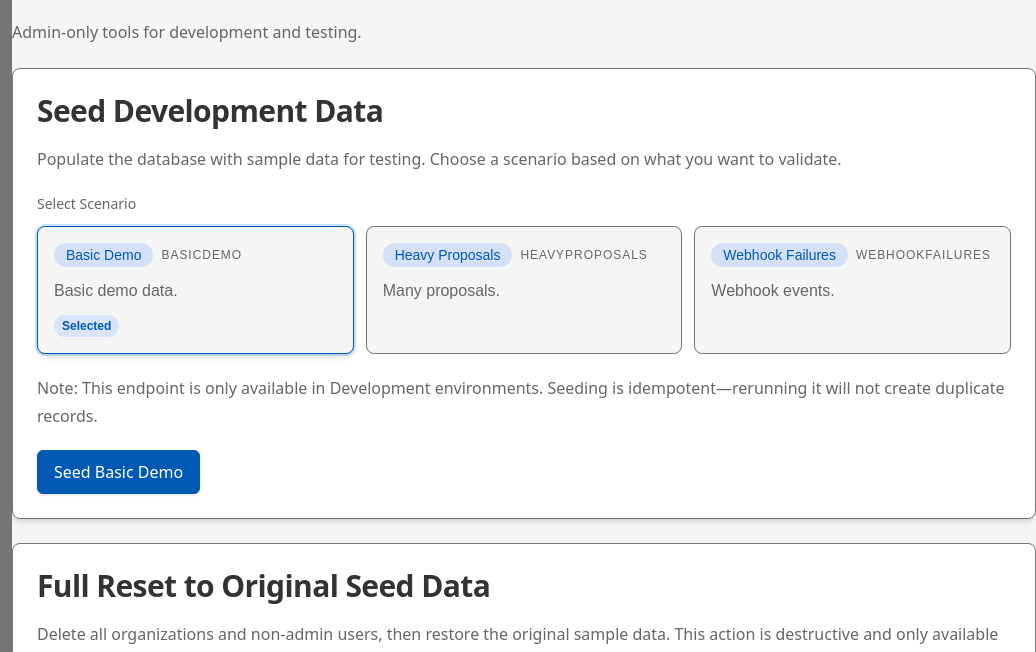
Test: AdminDevToolsPage › displays webhook data when WebhookFailures scenario creates them
Expected: the text "Select Scenario" is shown, [37,194,136,213]
# Select WebhookFailures scenario
Click the button "Webhook Failures WebhookFailures Webhook events." at point(780, 255), box [694,226,1011,354]
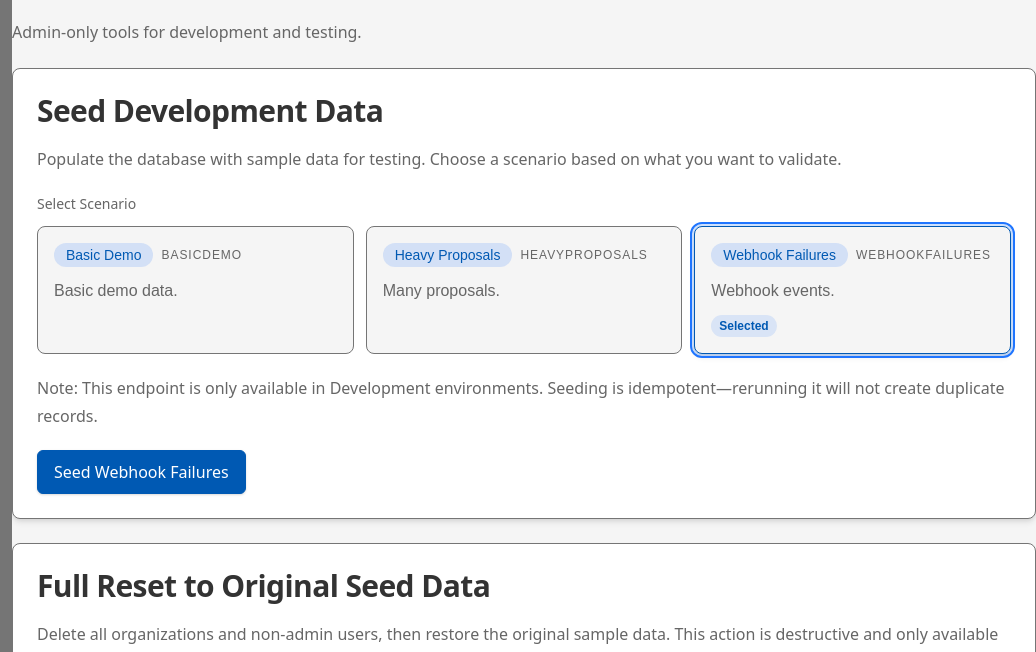
Click the button "Seed Webhook Failures" at point(141, 472), box [37,450,246,494]
(page scrolled)
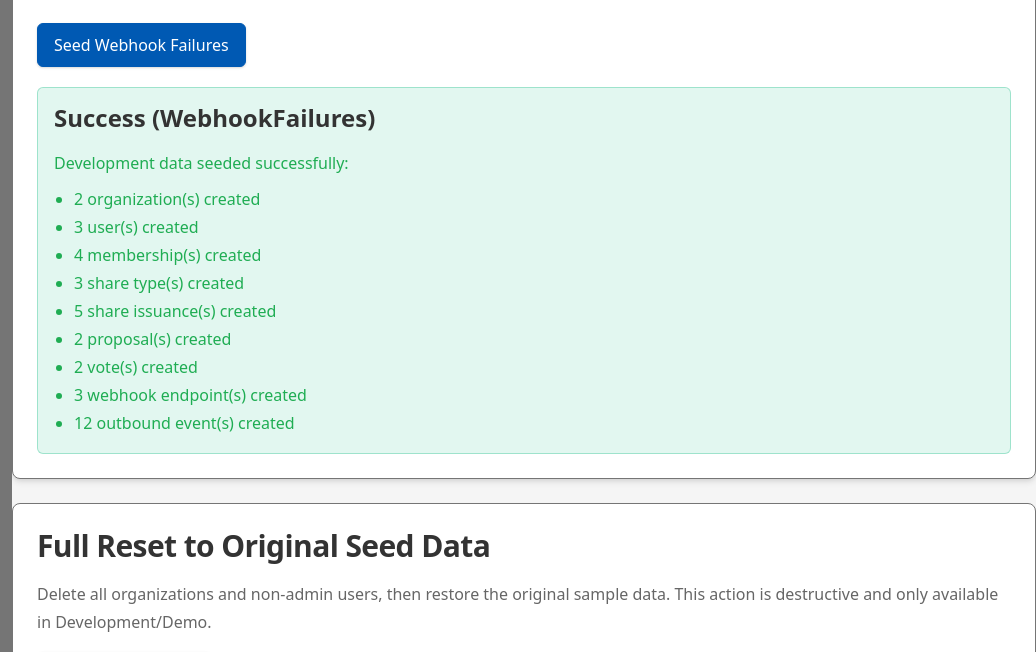
Expected: the heading "Success (WebhookFailures)" is shown, [54,101,375,134]
Expected: the list item "3 webhook endpoint(s) created" is shown, [74,384,307,406]
Expected: the list item "12 outbound event(s) created" is shown, [74,412,295,434]
